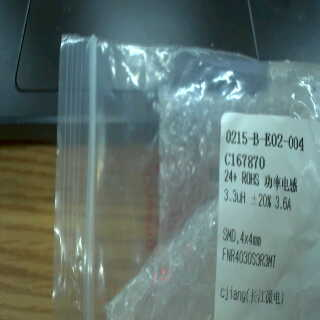3.3uH: (220, 186, 248, 207)
